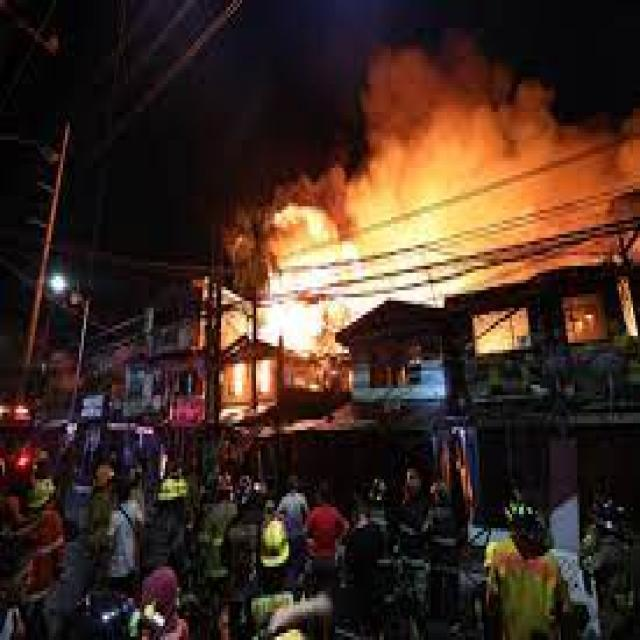Fire: (261, 246, 394, 373)
Smoke: (336, 45, 622, 251)
